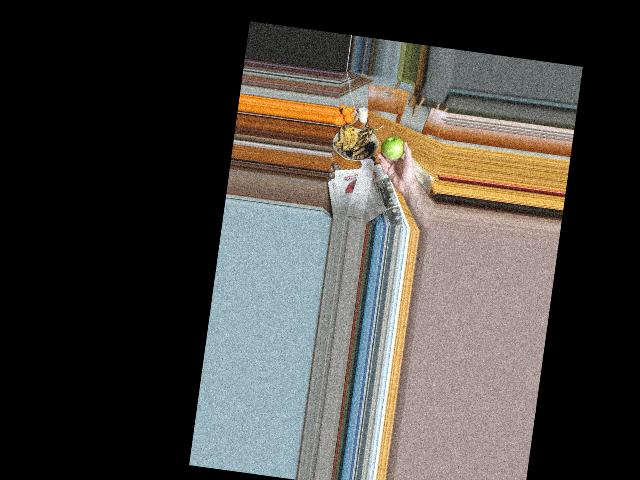apple: (382, 135, 406, 160)
